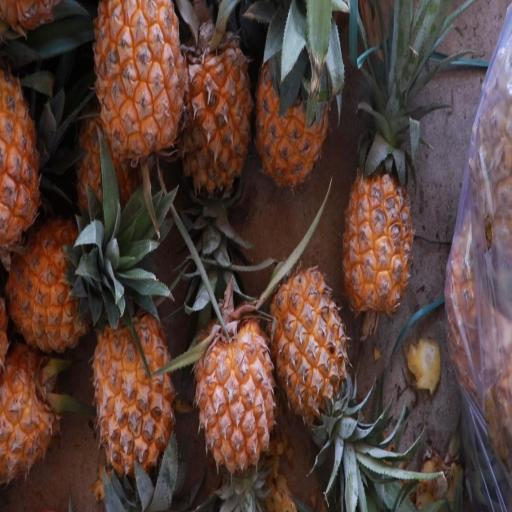Pineapple - v8 v1: (88, 301, 179, 511), (3, 211, 130, 358), (90, 0, 186, 177), (265, 261, 352, 454), (190, 306, 278, 480), (177, 5, 255, 201), (339, 137, 417, 326), (252, 24, 332, 199), (0, 56, 53, 262), (0, 339, 71, 491)
